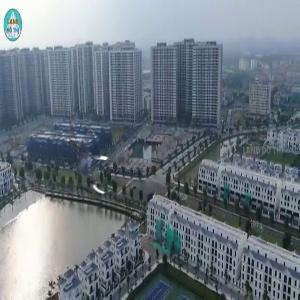drone: (61, 138, 121, 198)
